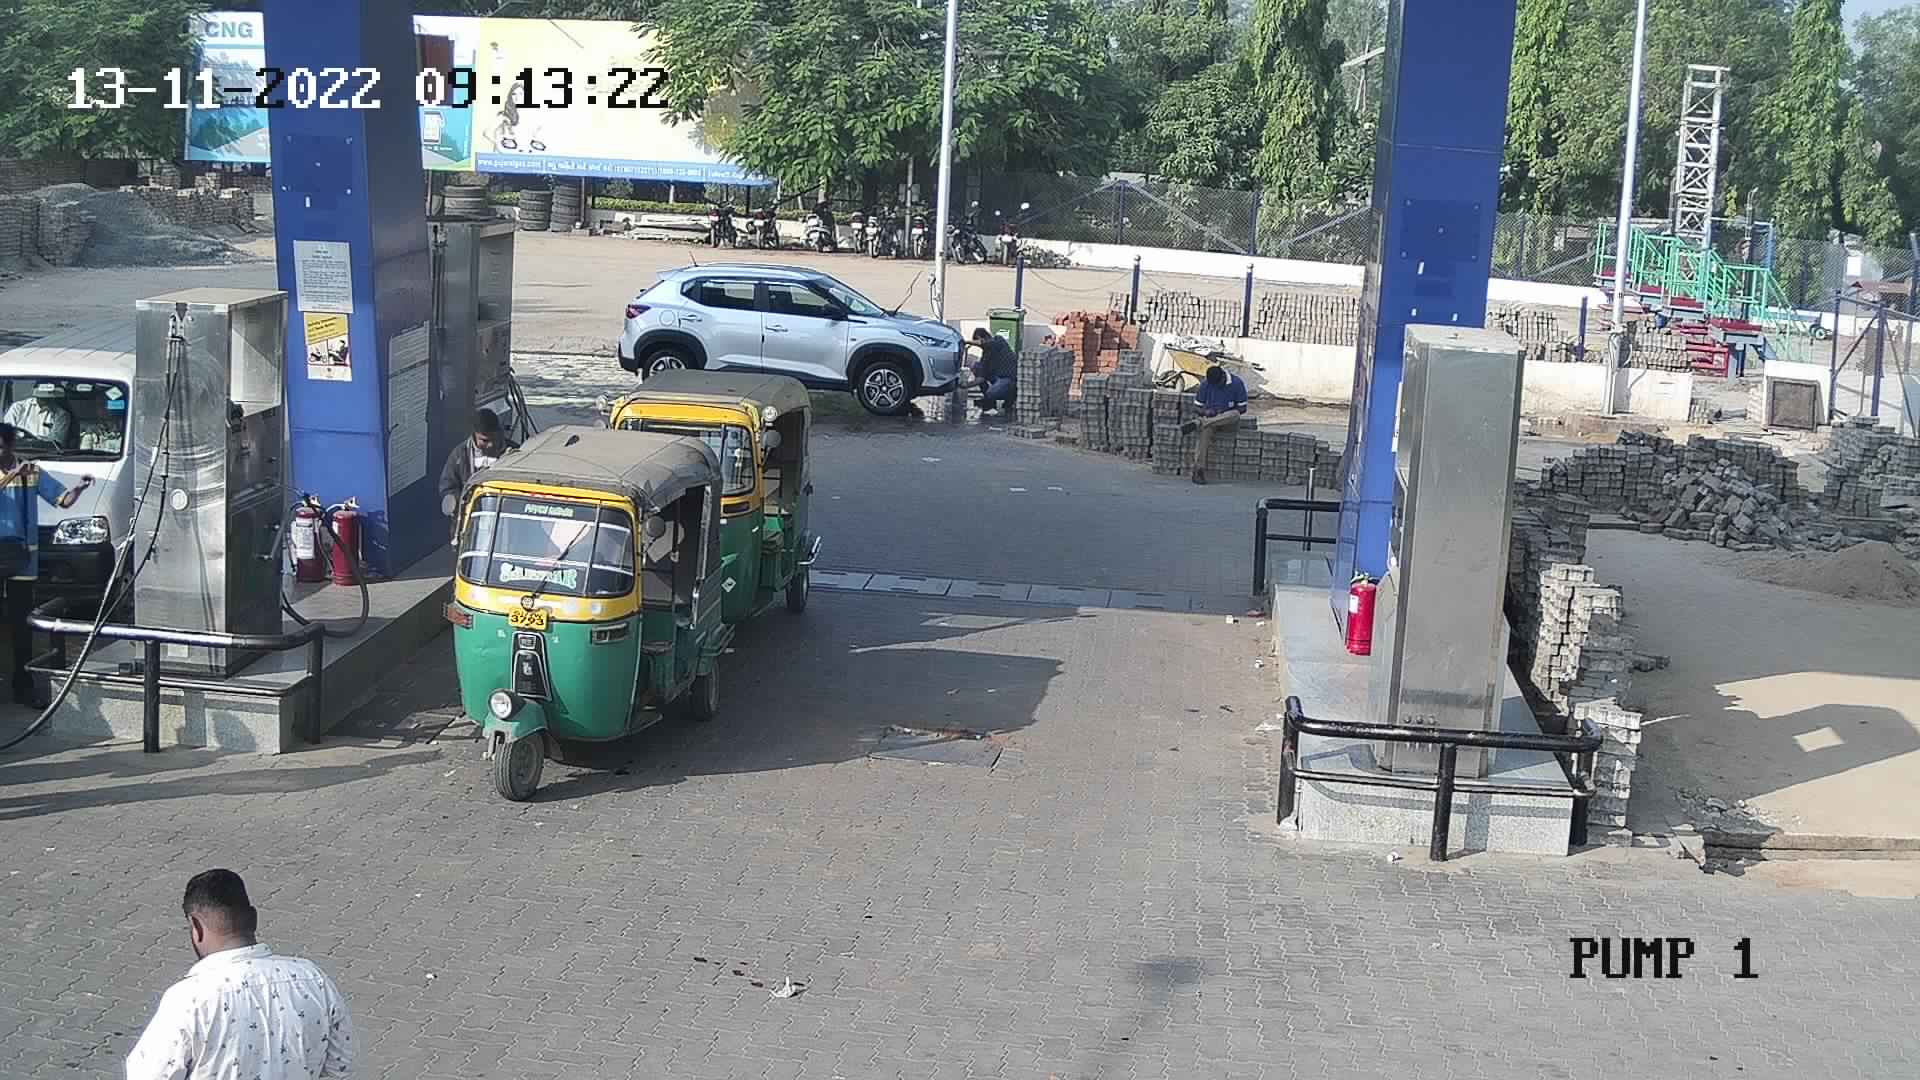Auto: (427, 411, 746, 808), (578, 360, 829, 655)
Bike: (844, 194, 902, 260), (989, 193, 1036, 269), (944, 196, 993, 266), (799, 186, 841, 252), (702, 179, 746, 241), (899, 193, 938, 264), (744, 187, 789, 243)
Car: (3, 303, 194, 609), (621, 248, 969, 410)
Others: (1, 415, 65, 713)
